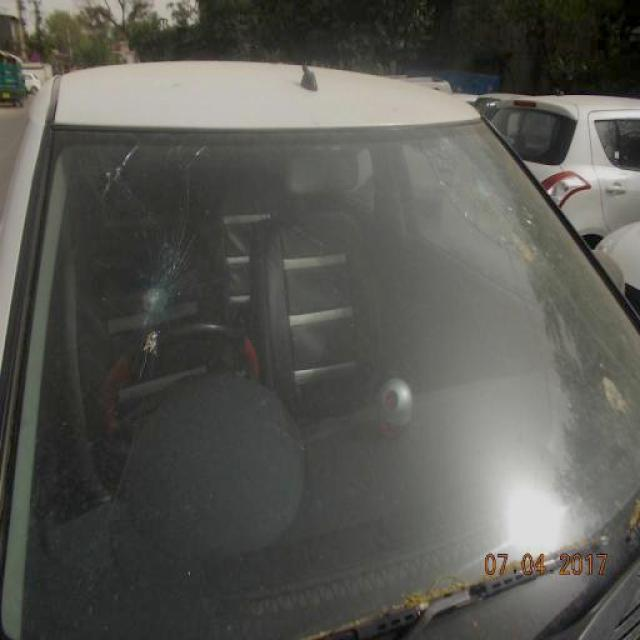car damage: (448, 146, 511, 217), (127, 267, 174, 332)
